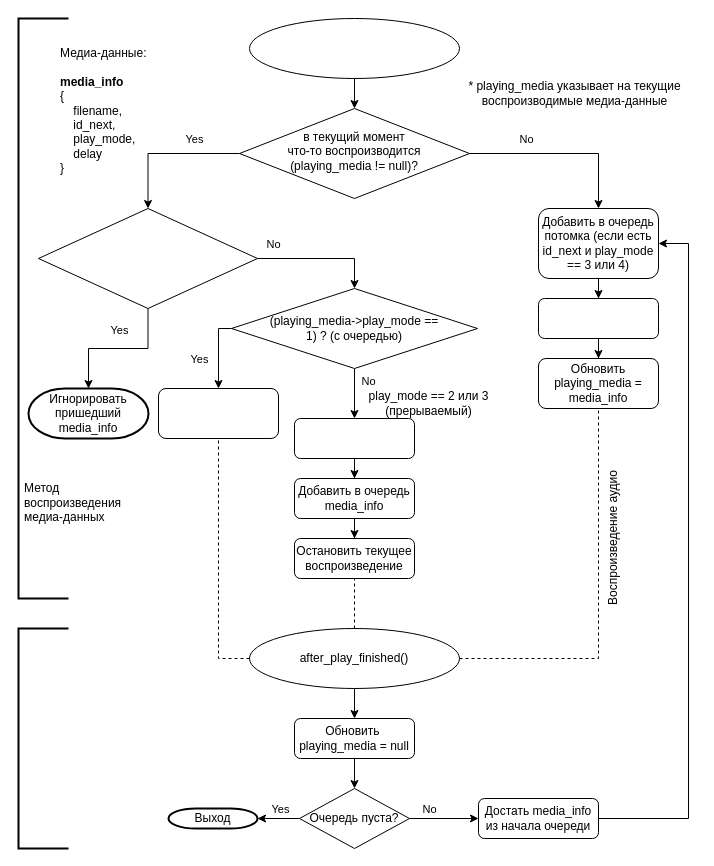
Image size: 714x866. Some labels were removed from this diagram. Each missing label, with the box of its shape:
(playing_media->play_mode == 0 или 4) ? (непрерываемый): (38, 208, 258, 308)
play( media_info ): (248, 18, 460, 78)
Воспроизвести media_info->filename: (538, 298, 658, 338)
Добавить media_info в конец очереди: (158, 388, 278, 438)
Метод - реакция на окончание воспроизведения: (17, 627, 69, 849)
Очистить текущую очередь: (294, 418, 414, 458)
